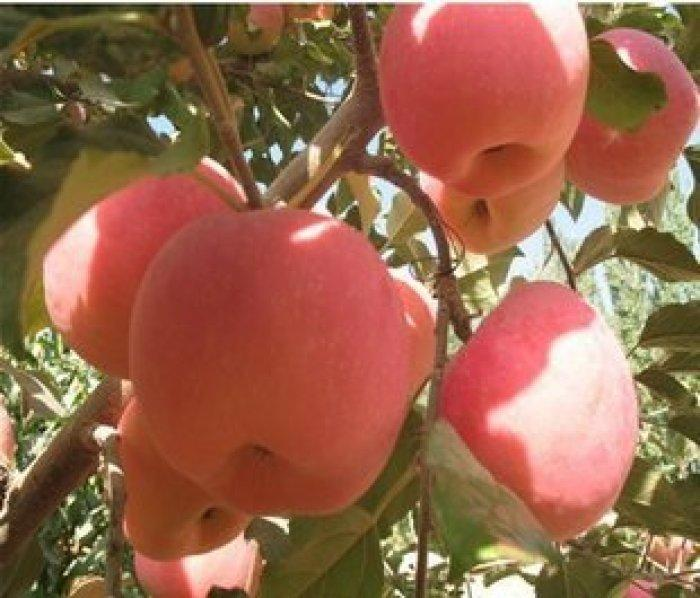apple: (128, 211, 410, 521), (429, 277, 638, 537), (374, 1, 589, 195), (560, 22, 699, 206), (106, 394, 258, 561), (408, 160, 564, 256)
